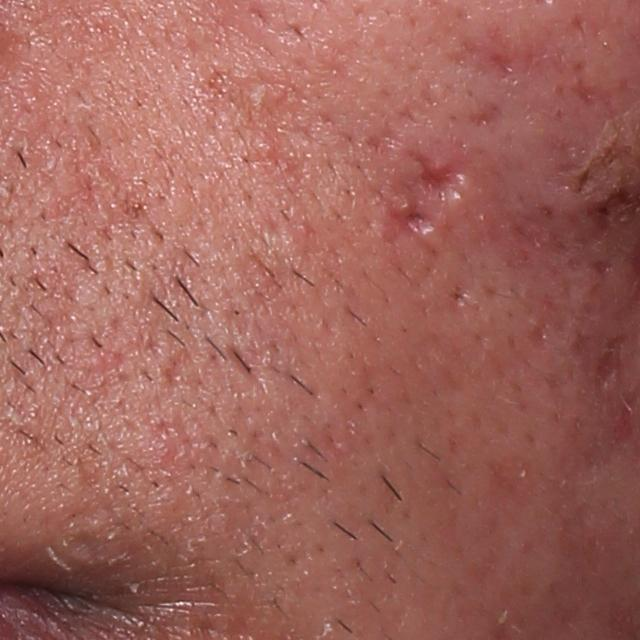atrophic_scar: (444, 18, 582, 95), (148, 413, 188, 481), (415, 151, 463, 202), (166, 347, 191, 387)
